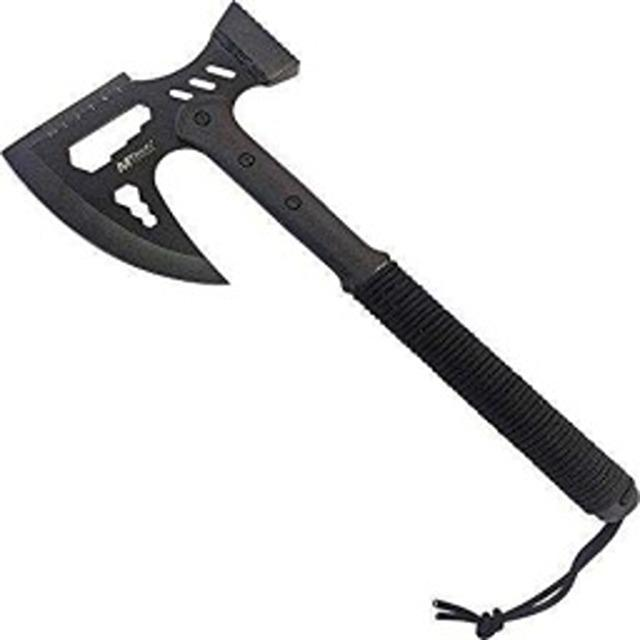ax: (0, 2, 640, 530)
